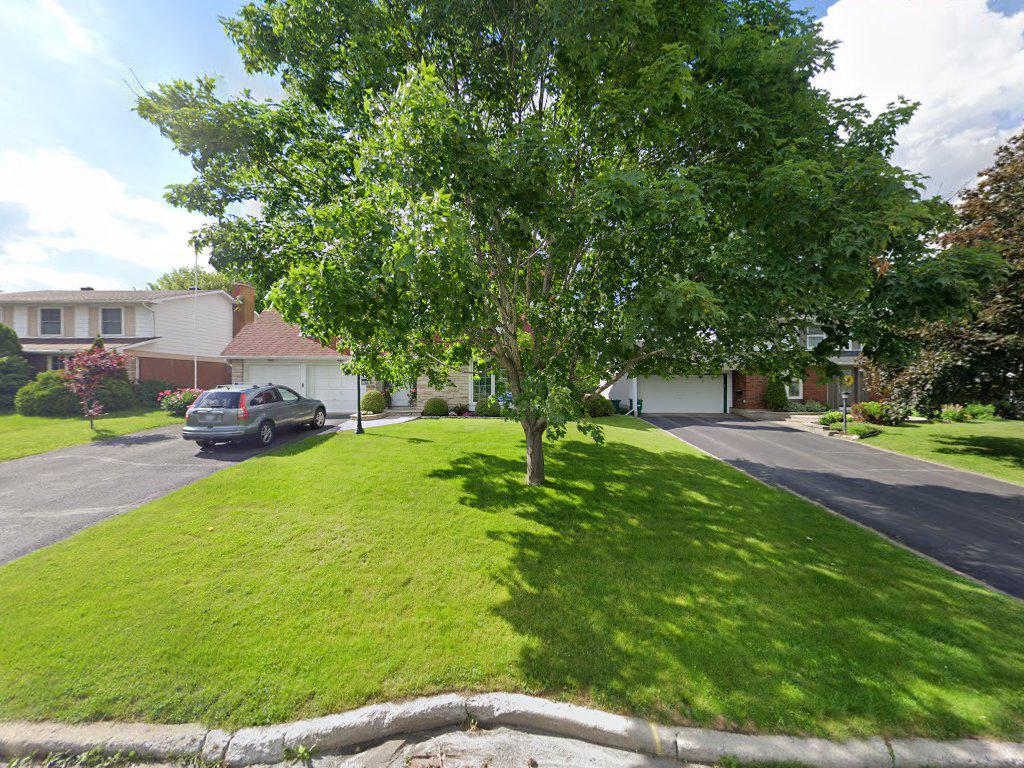trunk: (510, 364, 557, 499)
